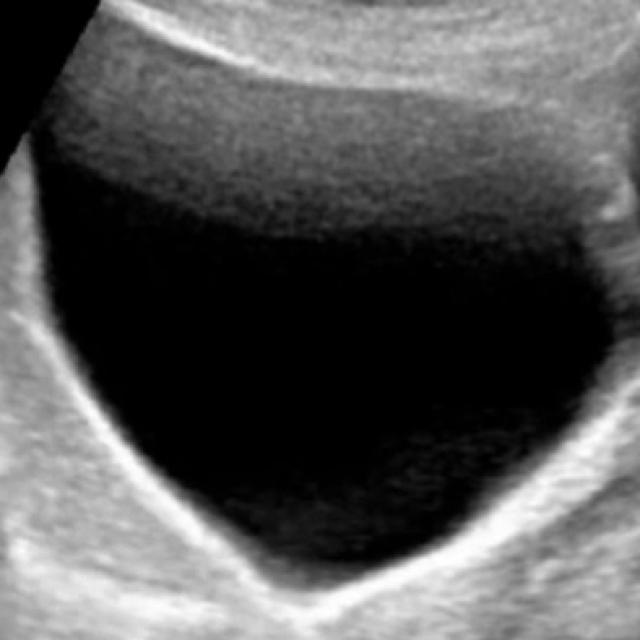bladder: (6, 3, 632, 634)
